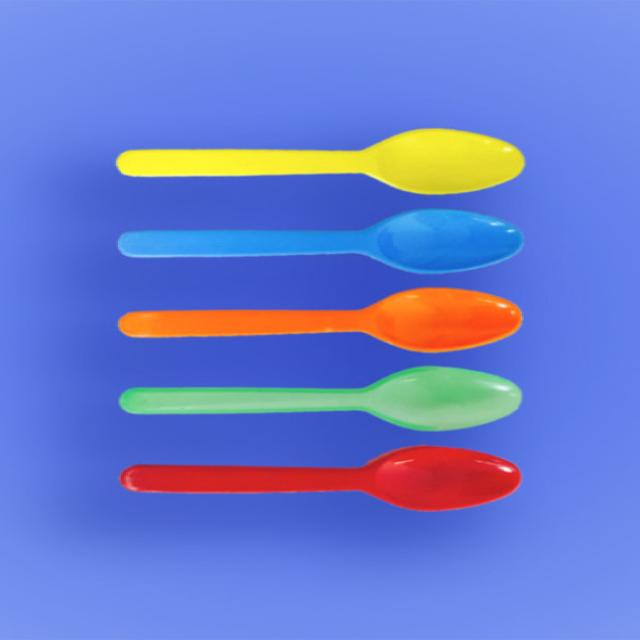Plastic: (107, 110, 609, 210), (67, 203, 564, 281), (110, 438, 548, 526), (109, 366, 567, 442), (107, 290, 576, 359)
